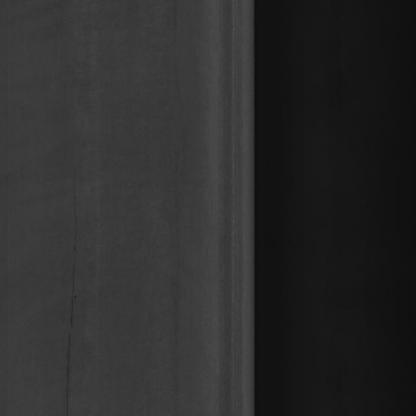inclusion: (61, 144, 81, 414)
